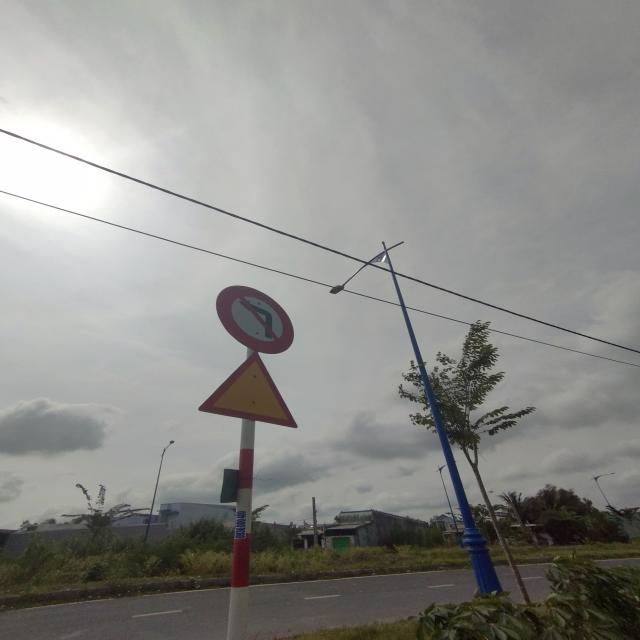Cam_Re_Trai: (215, 285, 294, 354)
Gioi_Han_Toc_Do_25: (198, 350, 299, 428)
